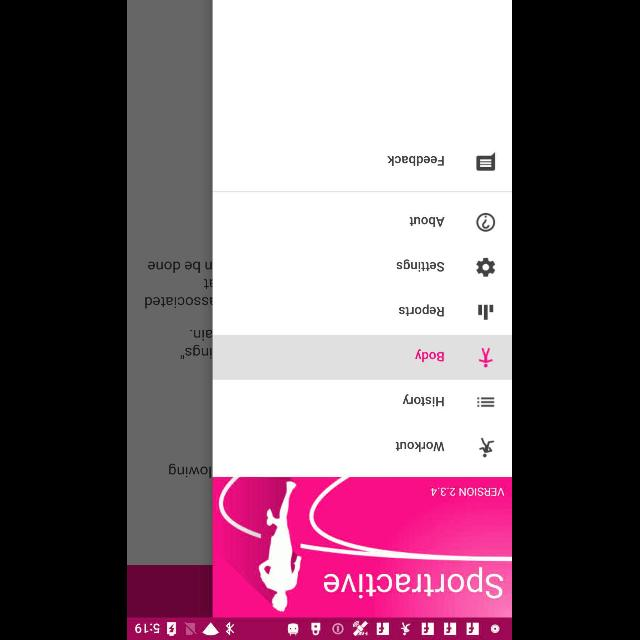icon: (476, 212, 496, 232), (476, 152, 496, 170), (476, 258, 496, 276), (478, 304, 494, 320), (477, 396, 495, 408)
image: (213, 477, 513, 617), (479, 437, 495, 458), (478, 348, 494, 368)
panel: (213, 0, 512, 618)
text: (323, 566, 504, 600), (430, 487, 506, 497), (389, 155, 445, 167), (396, 440, 446, 452), (397, 260, 445, 272), (399, 304, 445, 316), (403, 394, 445, 406), (410, 216, 446, 228), (415, 349, 445, 363)
uppertaskbar: (128, 617, 512, 639)
